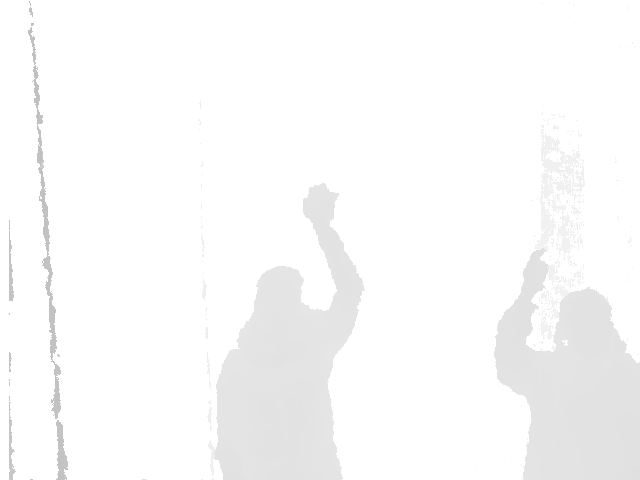hand: (302, 183, 340, 231), (522, 251, 552, 294)
head: (552, 288, 615, 355), (252, 262, 304, 318)
person: (214, 184, 360, 480), (495, 234, 640, 480)
